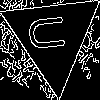U: (28, 12, 74, 53)
